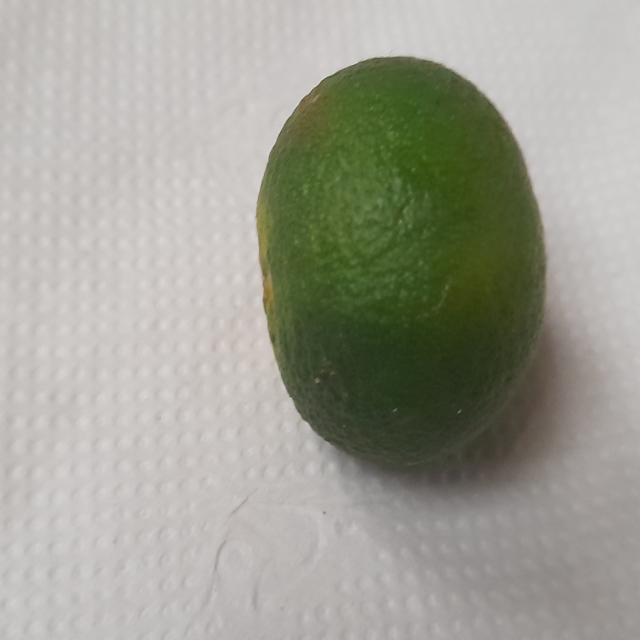heathy: (252, 41, 553, 484)
